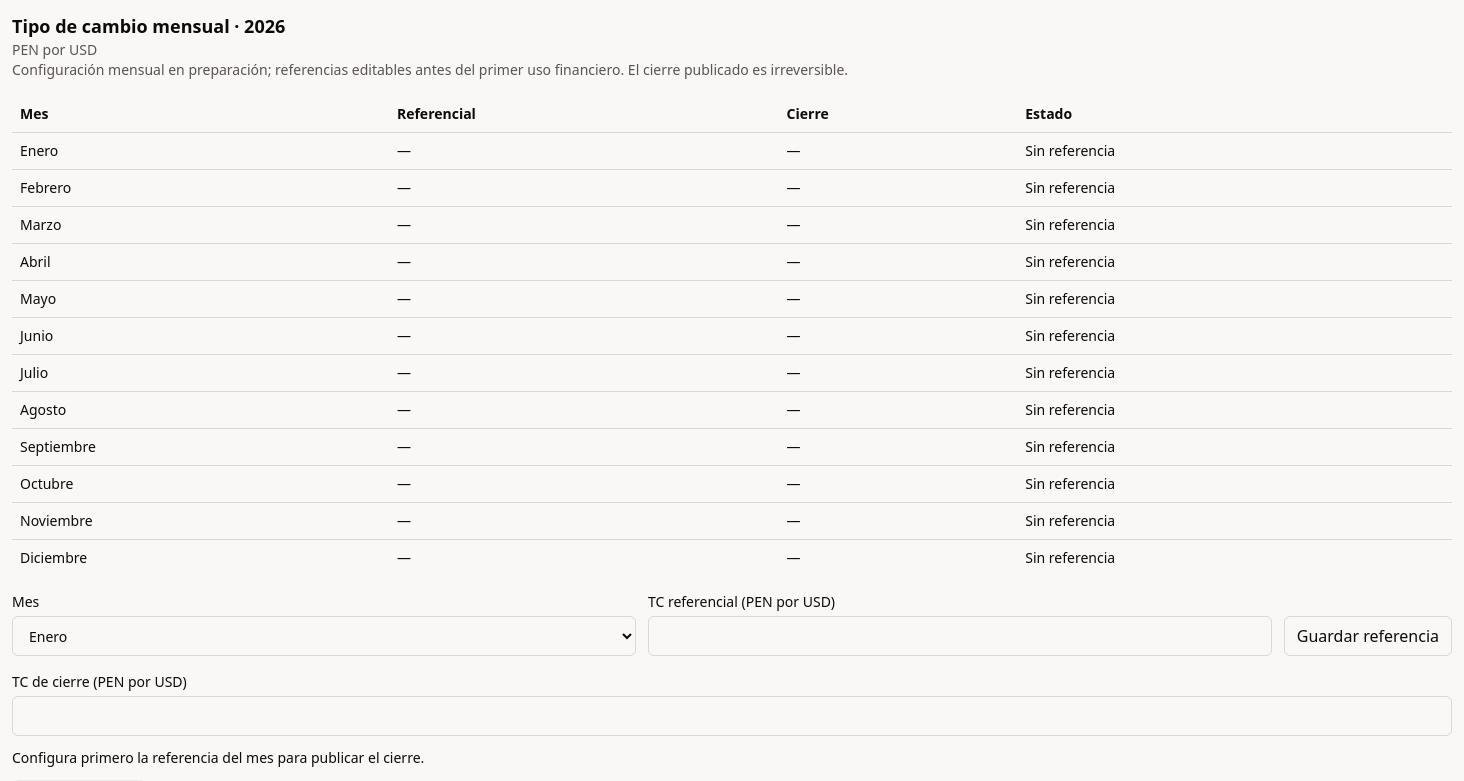
Scenario: MonthlyFxPanel › valida valor decimal positivo antes de enviar
Type "0" into the field labelled "TC referencial (PEN por USD)" at [960, 636], box x1=648 y1=616 x2=1272 y2=656
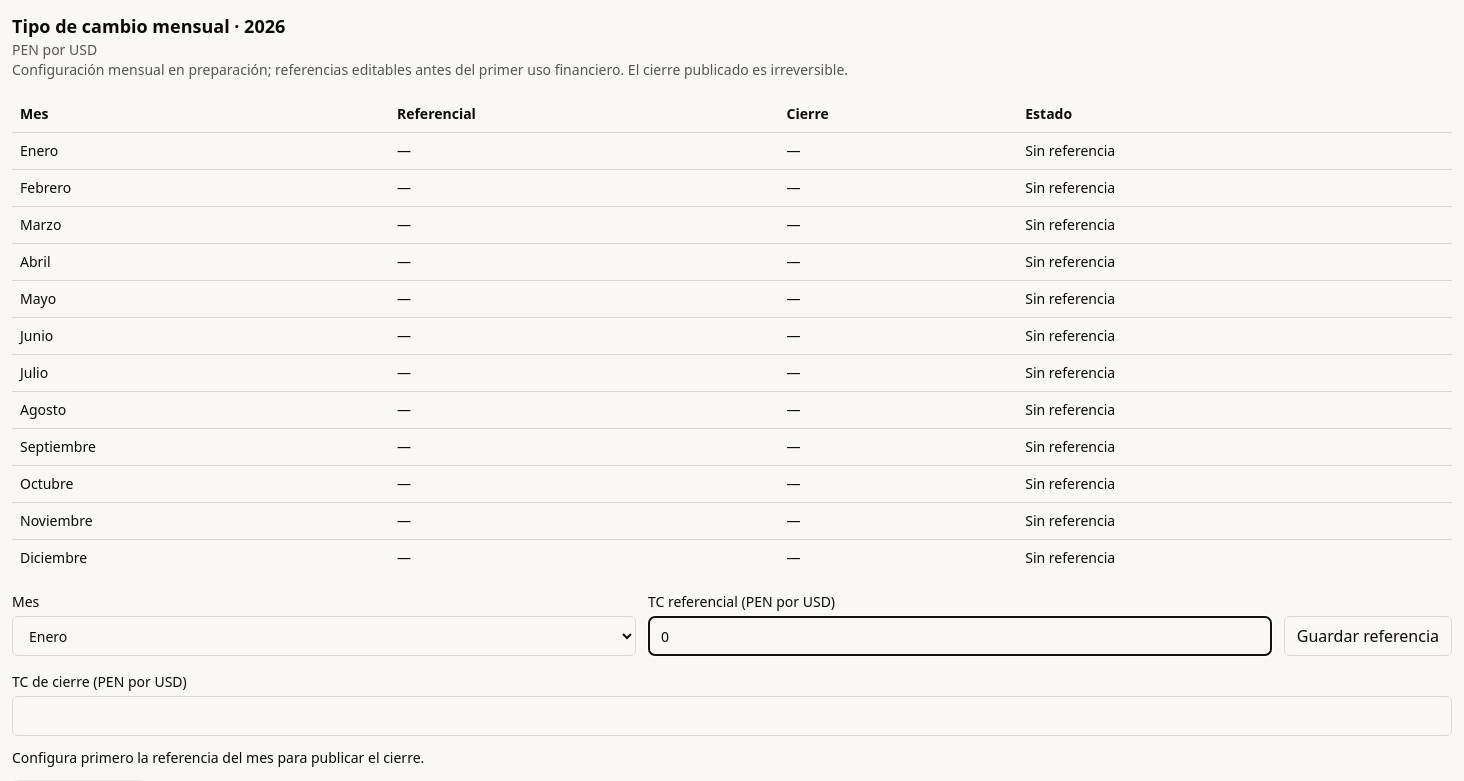
Click the button "Guardar referencia" at [1368, 636], box x1=1284 y1=616 x2=1452 y2=656
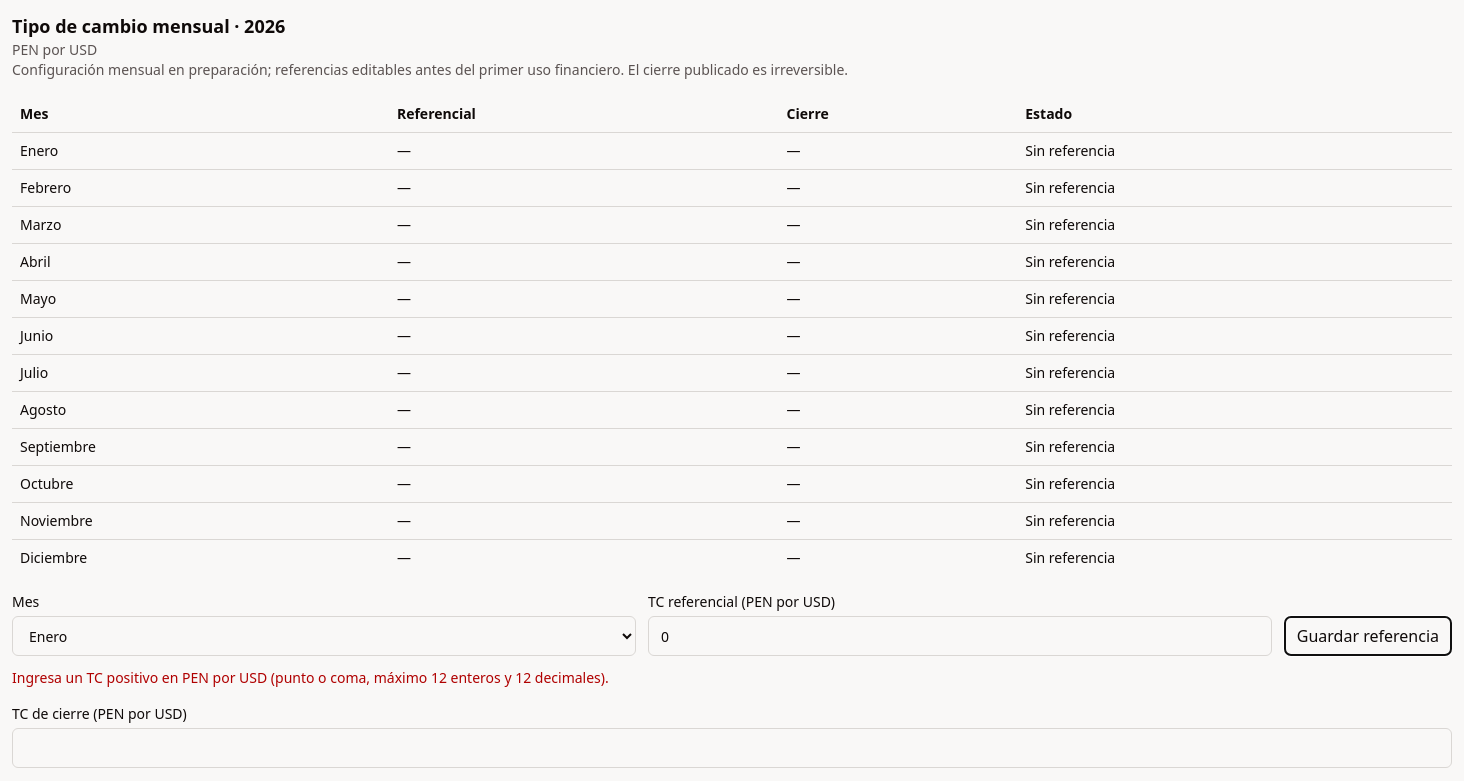
Check: the message shows "positivo", box x1=12 y1=668 x2=609 y2=687
